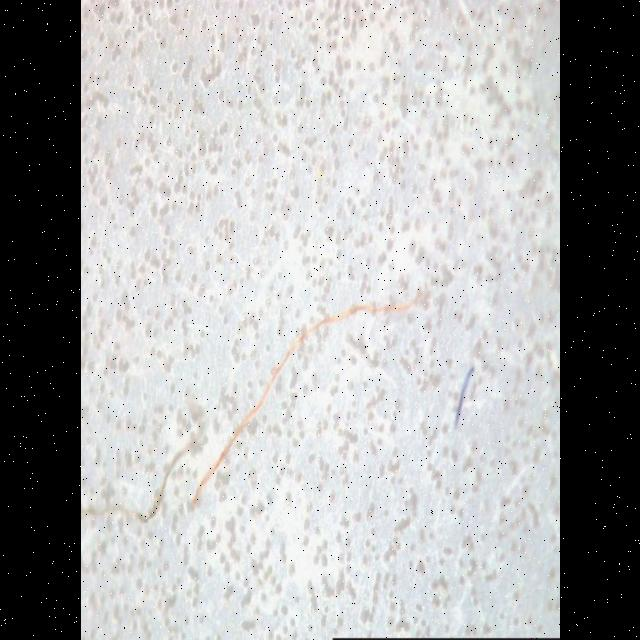Fibre: (185, 299, 415, 513), (80, 432, 198, 554)
